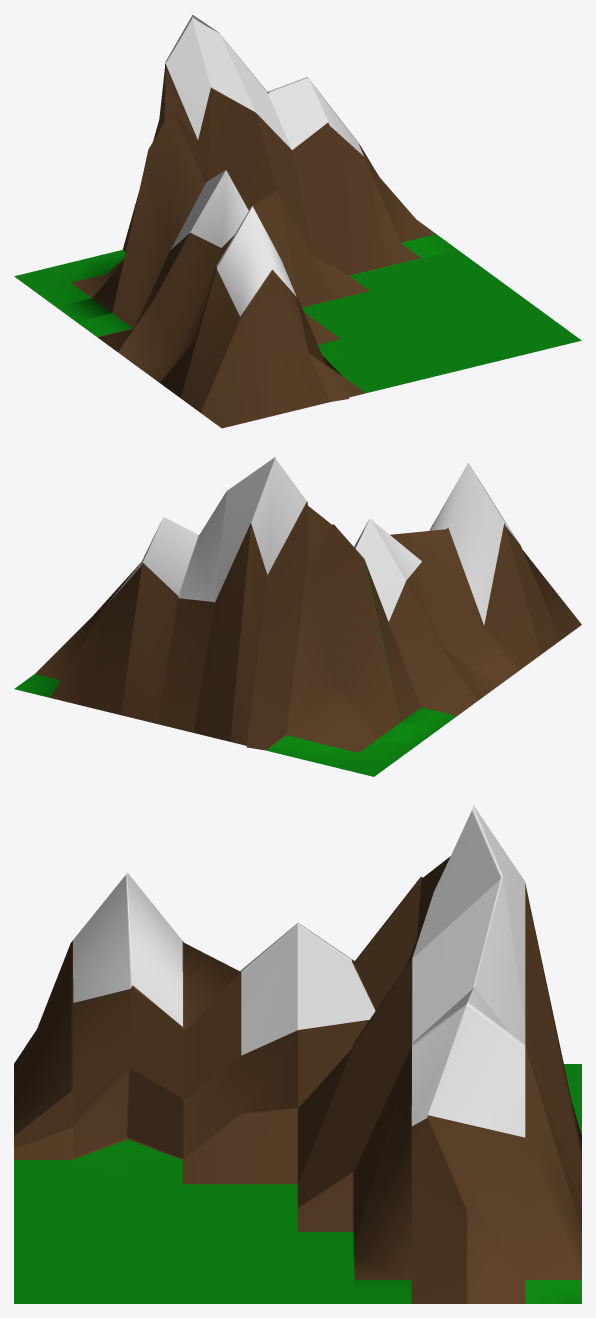
Rendered from TestMountain.fbx.
3 views of the same model, one above another, from view 1: azimuth 30°, elevation 25°; view 2: azimuth 150°, elevation 25°; view 3: azimuth 270°, elevation 25° (orthographic). The views are drawn at different scales.
Visible parts, largest first — view 1: pPlane1; view 2: pPlane1; view 3: pPlane1.
Boxes of the visible parts, box(x1,y1,x2,y2) form: pPlane1: box(14, 15, 581, 428); pPlane1: box(14, 457, 581, 776); pPlane1: box(14, 805, 581, 1303).
Bounding box in the file's own units: 271 × 186 × 271.
